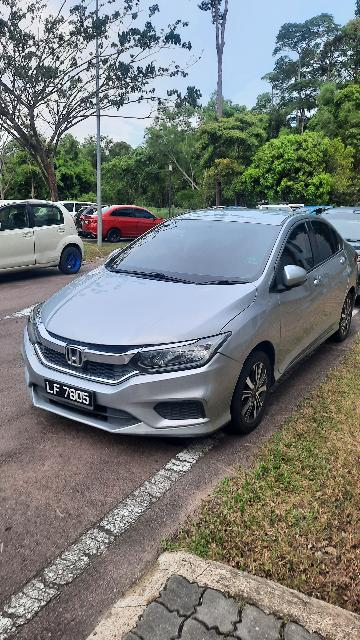License_Plate: (43, 376, 98, 412)
car: (20, 208, 360, 446), (1, 195, 91, 283), (79, 204, 188, 244)
